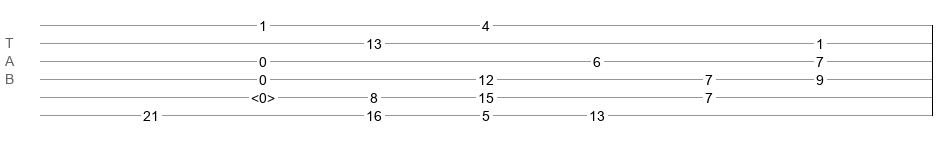0: (259, 54, 267, 64), (259, 72, 267, 82)
1: (259, 18, 267, 28), (816, 36, 824, 46)
12: (478, 72, 494, 82)
13: (366, 36, 382, 46), (589, 108, 605, 118)
15: (478, 90, 494, 100)
16: (366, 108, 382, 118)
21: (143, 108, 159, 118)
4: (482, 18, 490, 28)
5: (482, 108, 490, 118)
6: (593, 54, 601, 64)
7: (705, 90, 713, 100), (705, 72, 713, 82), (816, 54, 824, 64)
8: (370, 90, 378, 100)
9: (816, 72, 824, 82)
harmonic: (251, 90, 275, 100)
